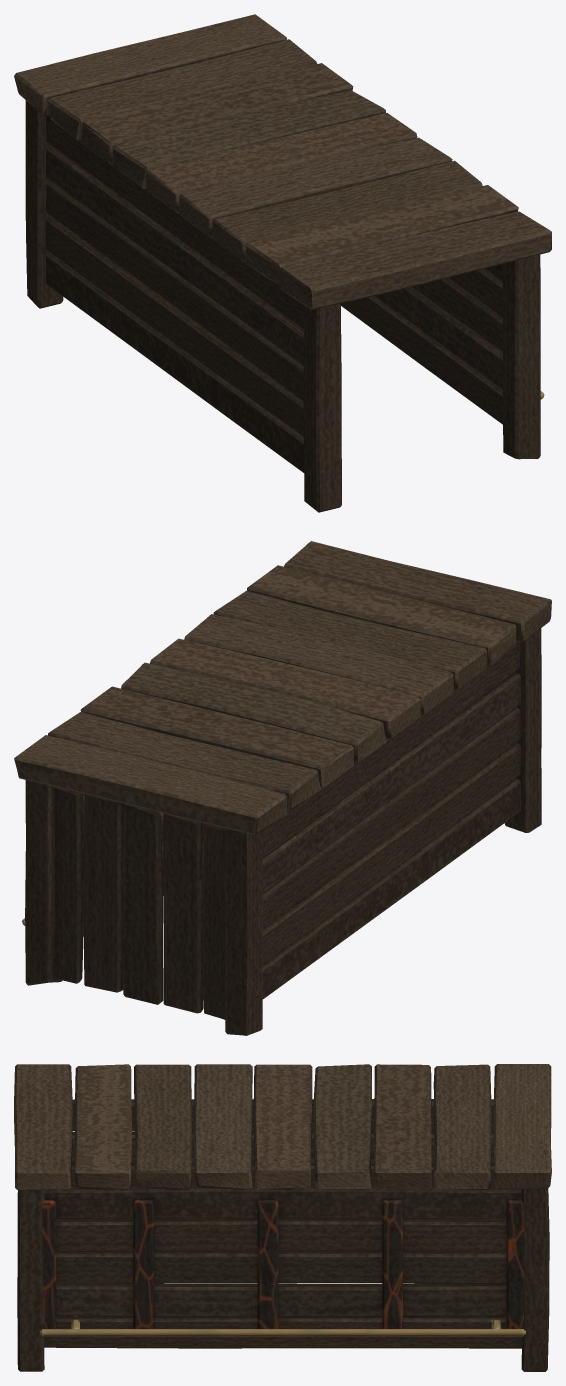
Rendered from bar_counter.glb.
The picture shows the model from 3 angles, top to bottom: view 1: azimuth 30°, elevation 25°; view 2: azimuth 150°, elevation 25°; view 3: azimuth 270°, elevation 25°; orthographic projection. The views are drawn at different scales.
Parts seen in each view (by area): view 1: bar_counter; view 2: bar_counter; view 3: bar_counter.
Part boxes in pixels (x1=…): bar_counter: x1=14, y1=14, x2=551, y2=512; bar_counter: x1=14, y1=541, x2=551, y2=1035; bar_counter: x1=14, y1=1064, x2=551, y2=1371.
Bounding box in the file's own units: 0.8825 × 0.773 × 1.82.
Materials: 1 (1 with a texture image).
